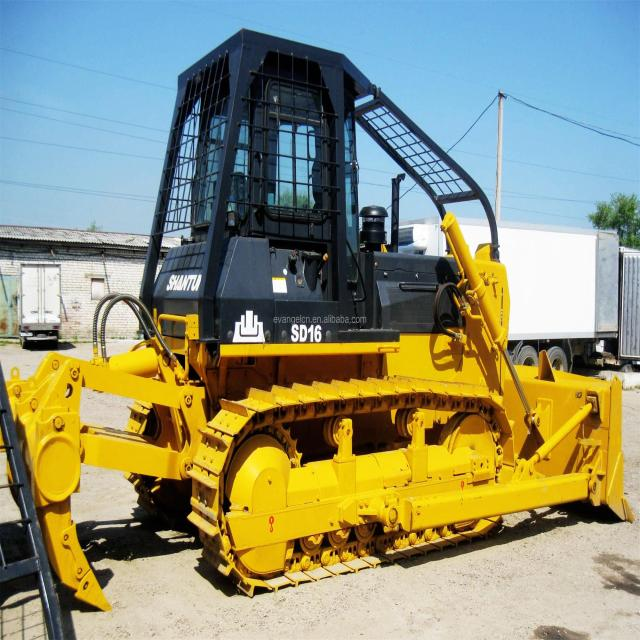Bulldozer: (26, 27, 640, 584)
